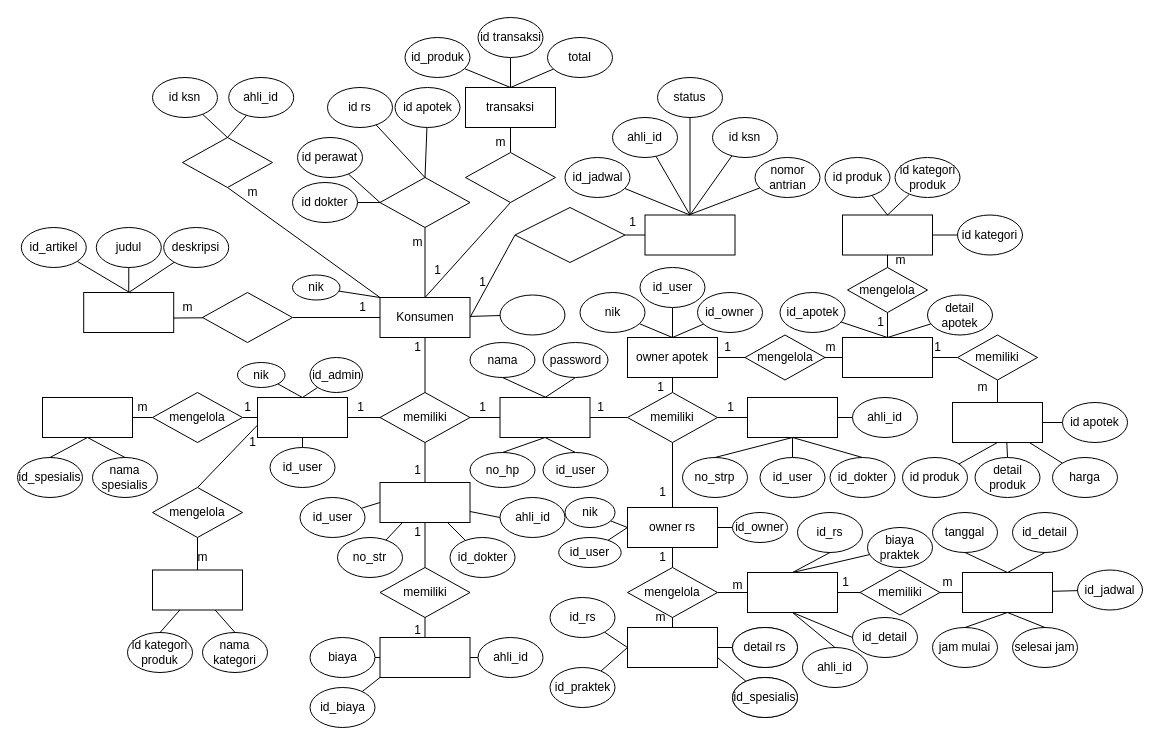
Some shapes in this 1160 by 745 pixel diagram are drawn without their labels. The shapes that lost their labels are listed below. From the top down, each one's box as (x1, y1, x2, y2) in pixels, then its label:
(182, 136, 272, 188): konsultasi
(464, 152, 556, 202): memesan
(379, 176, 470, 228): mengetahui
(514, 206, 625, 262): membuat janji rs
(644, 214, 735, 255): jadwal antrian
(842, 214, 932, 255): produk kategori
(83, 292, 174, 332): artikel
(202, 292, 292, 342): membaca
(499, 294, 565, 335): id_ksn
(842, 336, 932, 378): profil apotek
(42, 396, 132, 438): spesialis
(256, 396, 348, 438): Admin
(499, 396, 590, 438): Users
(746, 396, 838, 438): Perawat
(952, 402, 1042, 442): produk
(379, 482, 470, 522): dokter
(152, 569, 242, 610): kategori produk
(746, 572, 838, 612): detail praktek
(962, 572, 1052, 612): jadwal praktek
(379, 636, 470, 678): biaya_praktek
(626, 626, 718, 668): rumah sakit
